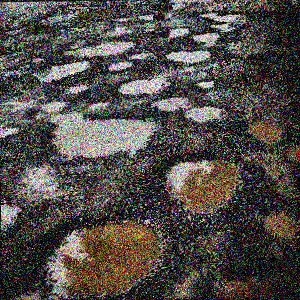pothole: (33, 214, 165, 299), (44, 112, 161, 162), (161, 153, 241, 213), (193, 261, 292, 298), (253, 201, 300, 243), (63, 37, 138, 58), (242, 114, 284, 145), (35, 59, 93, 81), (196, 9, 250, 30), (115, 74, 172, 93), (182, 104, 229, 125), (1, 199, 26, 231), (164, 46, 210, 63), (149, 94, 190, 111), (154, 25, 194, 38), (191, 31, 222, 42), (107, 60, 132, 72), (284, 143, 299, 161), (196, 78, 215, 89)
